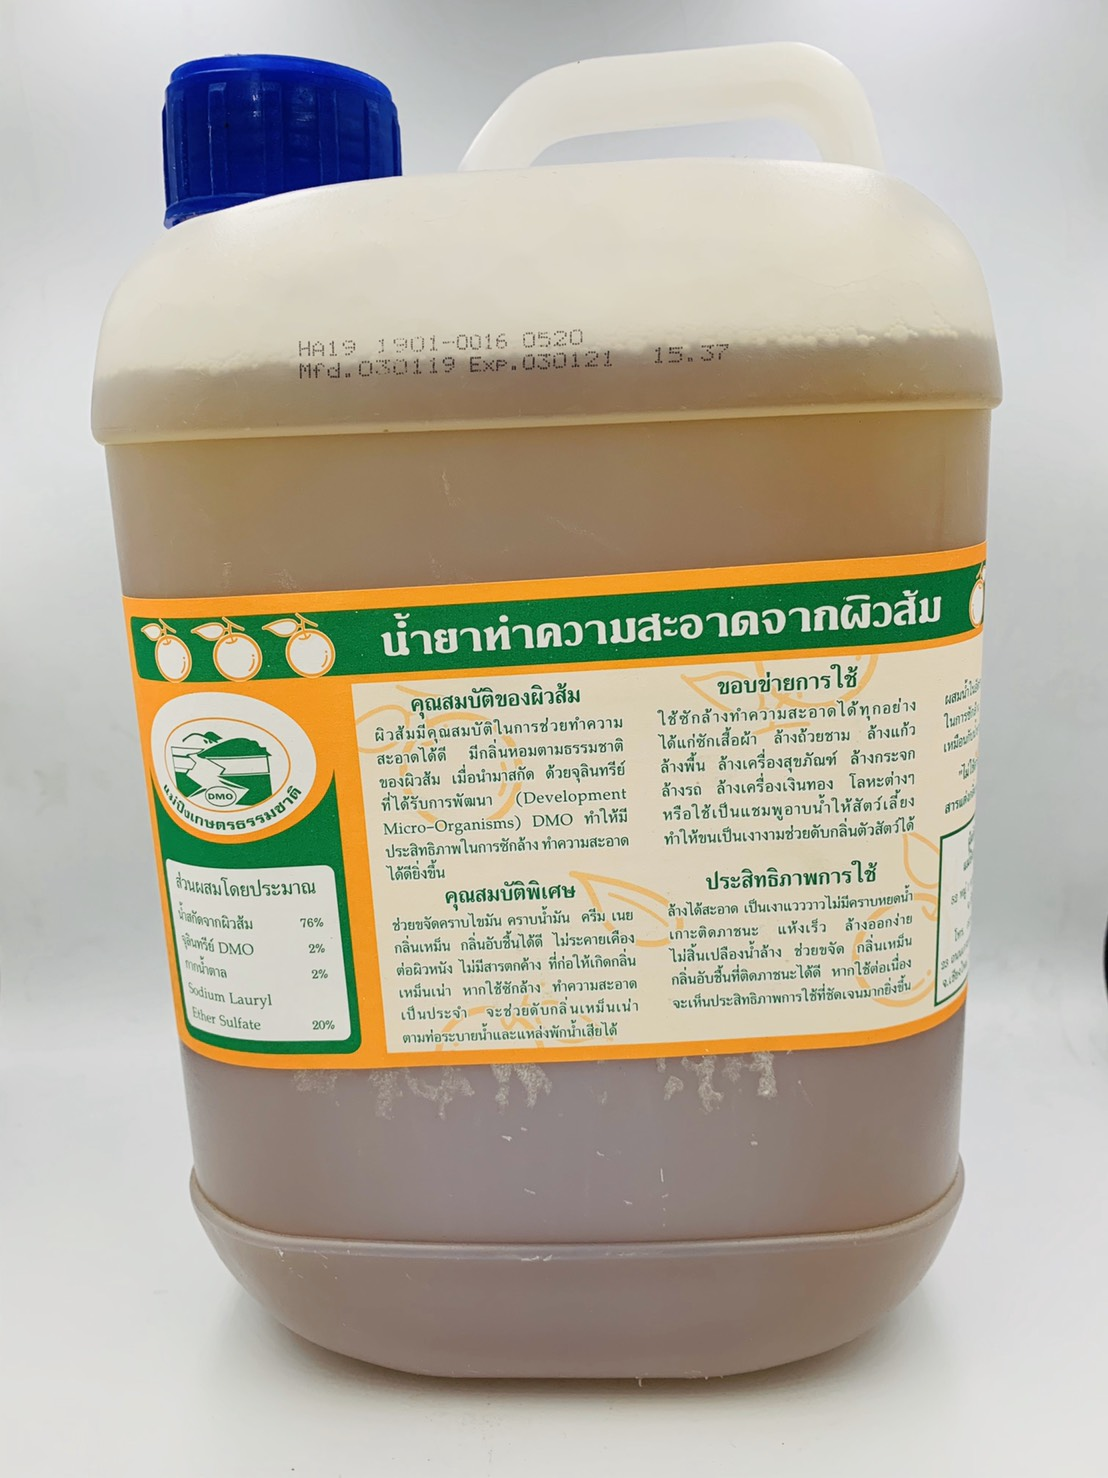Cleaning_solution: (88, 31, 1009, 1431)
